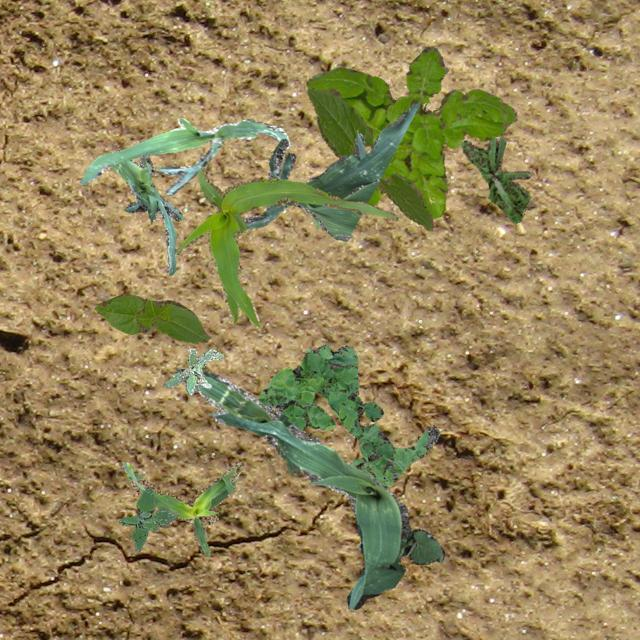crop: (182, 370, 408, 608), (175, 168, 398, 326), (241, 102, 417, 240), (306, 86, 432, 230), (79, 116, 287, 194), (120, 460, 240, 556), (109, 154, 183, 274), (94, 294, 210, 342), (398, 524, 443, 564)
weed: (306, 46, 516, 218), (258, 344, 438, 486), (460, 134, 530, 222), (118, 486, 178, 552), (162, 348, 222, 394), (311, 215, 321, 228)
